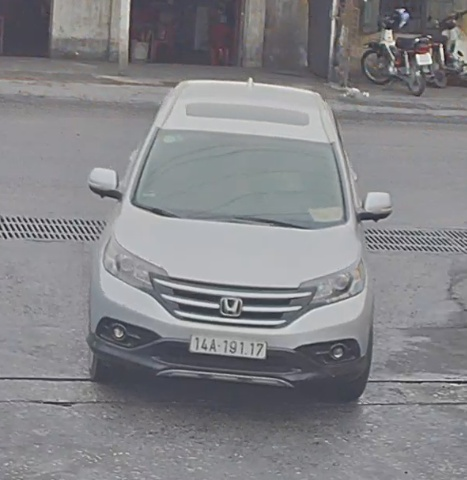vehicle plate: (184, 328, 276, 363)
